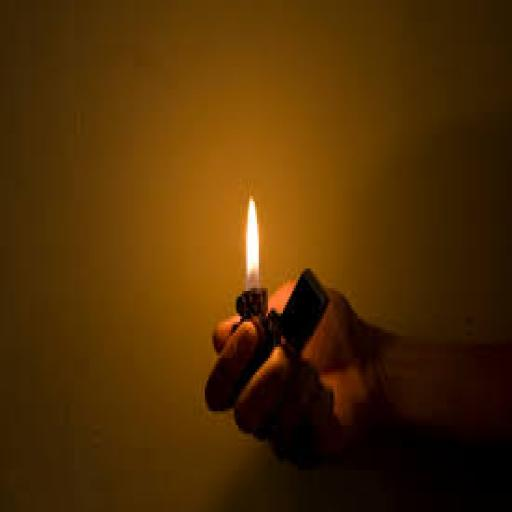fire: (229, 179, 270, 285)
